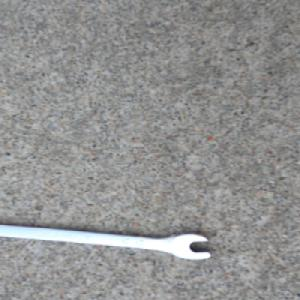Wrench: (0, 222, 214, 261)
